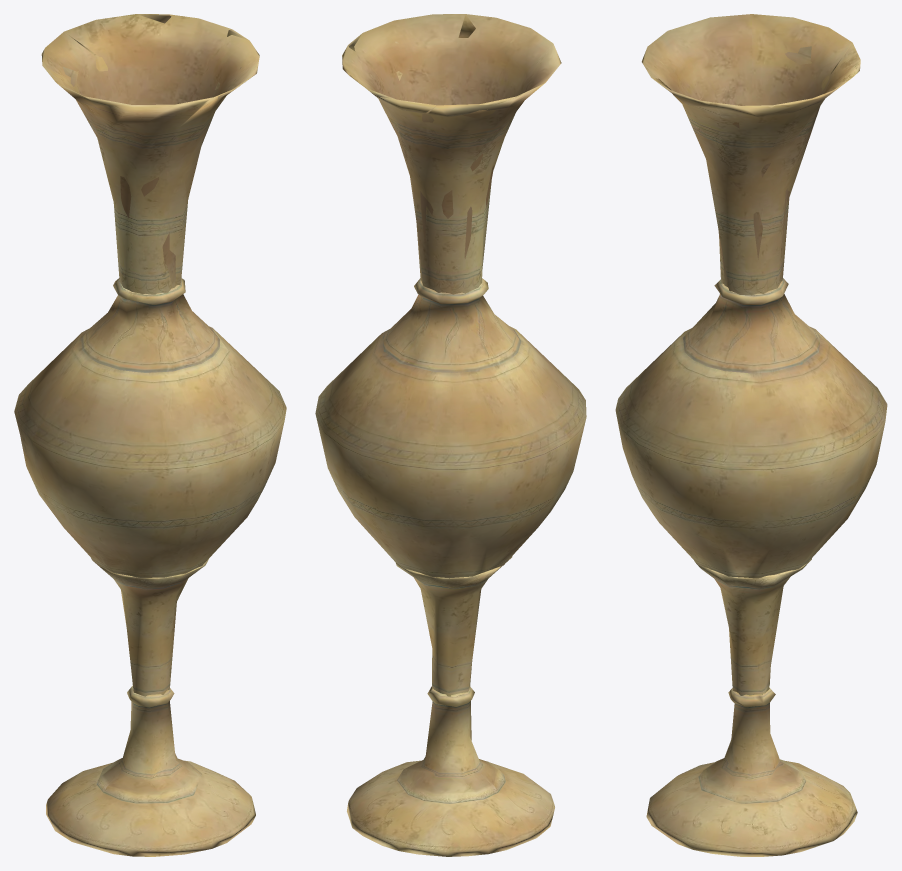
File: brass_vase_01.glb
3 views of the same model, side by side, from view 1: azimuth 30°, elevation 25°; view 2: azimuth 150°, elevation 25°; view 3: azimuth 270°, elevation 25° (orthographic).
Visible parts, largest first — view 1: brass_vase_01; view 2: brass_vase_01; view 3: brass_vase_01.
Part boxes in pixels (x1,y1,x2,y2): brass_vase_01: [14, 14, 286, 856]; brass_vase_01: [315, 14, 586, 856]; brass_vase_01: [615, 14, 887, 856].
Size of the model in its own units: 0.2267 by 0.6925 by 0.2267.
Materials: 1 (1 with a texture image).
